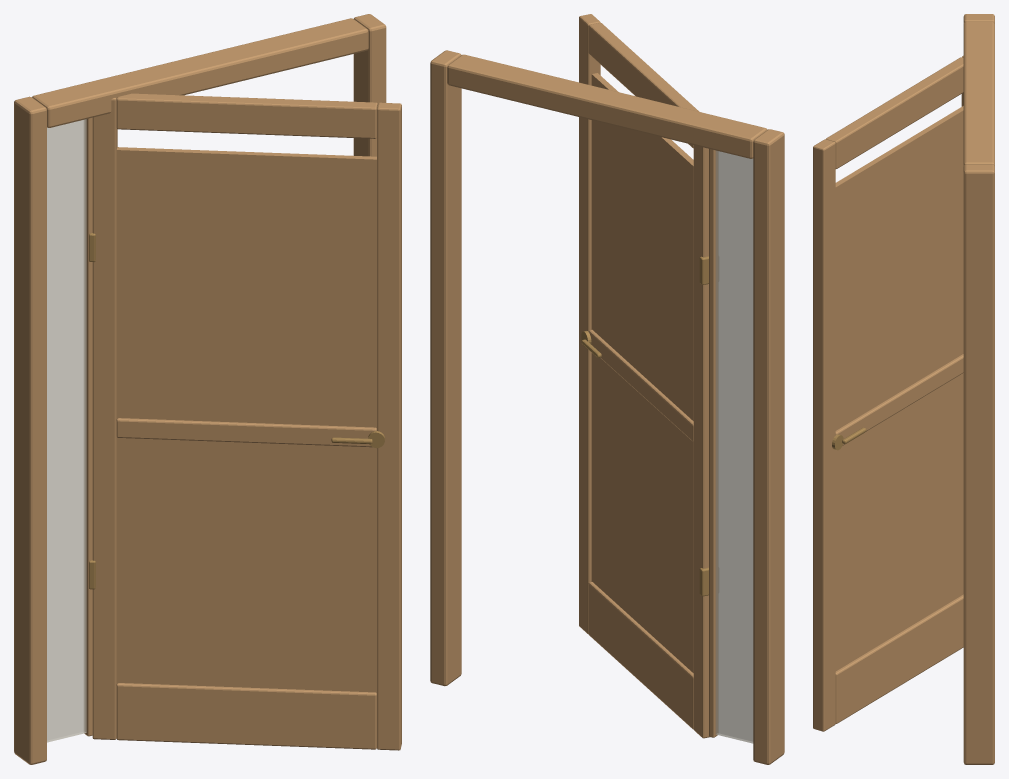
File: door-interior.glb
3 views of the same model, side by side, from view 1: azimuth 30°, elevation 25°; view 2: azimuth 150°, elevation 25°; view 3: azimuth 270°, elevation 25° (orthographic). The views are drawn at different scales.
Parts seen in each view (by area): view 1: leaf-panel, sidelight-glass, jamb-left, leaf-stile-latch, leaf-stile-hinge, leaf-rail-bottom, head, leaf-rail-top, sidelight-bead, leaf-rail-mid, jamb-right; view 2: leaf-panel, sidelight-glass, jamb-left, jamb-right, head, leaf-stile-hinge, leaf-stile-latch, leaf-rail-bottom, sidelight-bead, leaf-rail-top, leaf-rail-mid; view 3: leaf-panel, jamb-right, leaf-stile-latch, leaf-rail-bottom, leaf-rail-top, head, leaf-rail-mid.
Part boxes in pixels (box(x1,y1,x2,y2)): leaf-panel: box(116, 147, 376, 693); sidelight-glass: box(47, 119, 86, 742); jamb-left: box(14, 96, 46, 764); leaf-stile-latch: box(377, 102, 401, 750); leaf-stile-hinge: box(92, 98, 117, 739); leaf-rail-bottom: box(116, 683, 376, 749); head: box(32, 18, 368, 127); leaf-rail-top: box(116, 93, 377, 138); sidelight-bead: box(84, 117, 92, 736); leaf-rail-mid: box(116, 418, 376, 447); jamb-right: box(353, 14, 386, 156); leaf-panel: box(591, 73, 693, 672); sidelight-glass: box(715, 150, 753, 743); jamb-left: box(753, 129, 784, 764); jamb-right: box(430, 50, 461, 686); head: box(447, 54, 767, 158); leaf-stile-hinge: box(693, 145, 709, 738); leaf-stile-latch: box(579, 14, 600, 634); leaf-rail-bottom: box(588, 582, 693, 729); sidelight-bead: box(709, 149, 717, 737); leaf-rail-top: box(588, 22, 699, 148); leaf-rail-mid: box(588, 329, 693, 441); leaf-panel: box(835, 106, 963, 671); jamb-right: box(963, 164, 994, 764); leaf-stile-latch: box(813, 139, 835, 731); leaf-rail-bottom: box(835, 594, 963, 723); leaf-rail-top: box(826, 57, 963, 168); head: box(963, 22, 994, 166); leaf-rail-mid: box(835, 354, 963, 445).
Size of the model in its own units: 1.2 by 2.1 by 0.5826.
